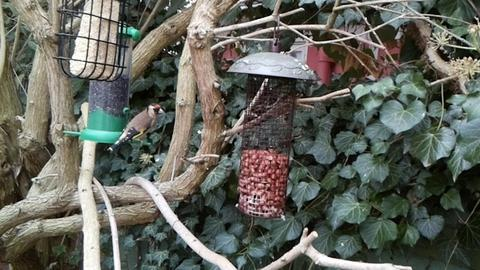goldfinch: (106, 103, 167, 155)
